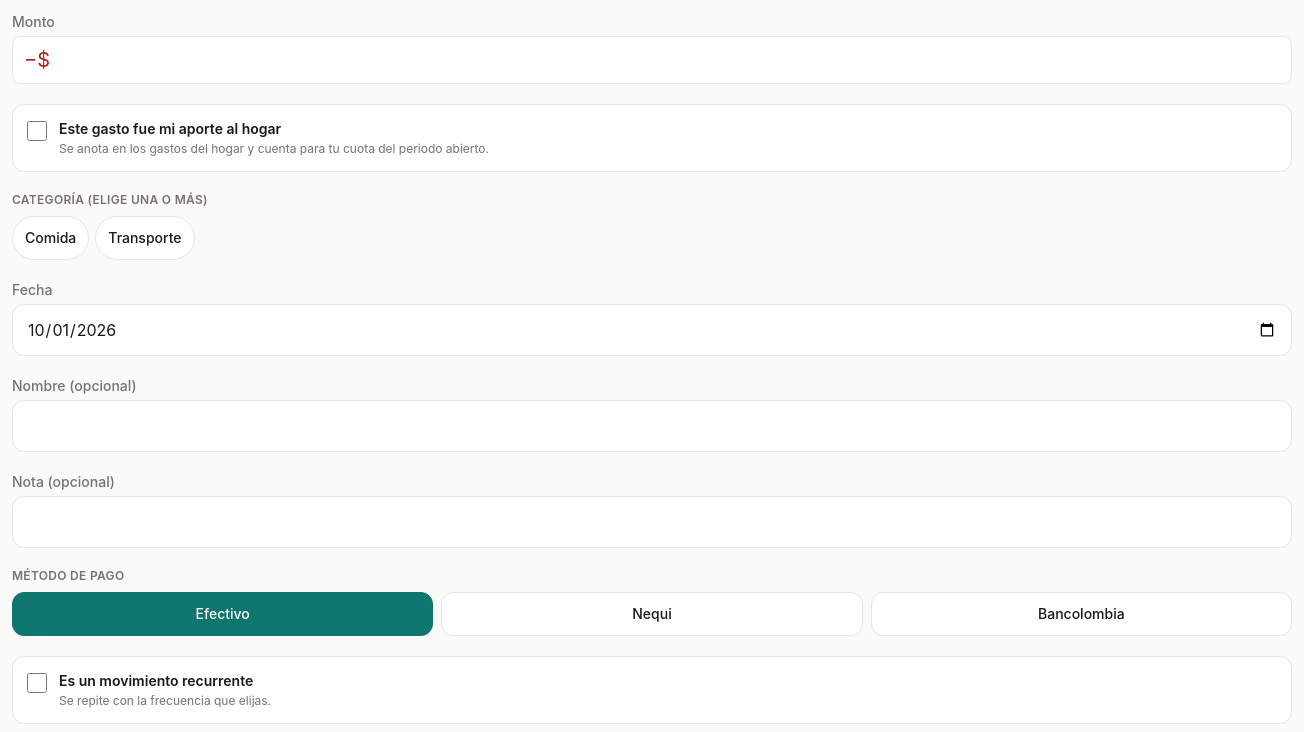
Scenario: TransactionForm › as my contribution › hides recurrence, which a contribution does not have
This screenshot has width=1304, height=732.
Check: the button "Comida" is shown, box [12,216,89,260]
Step 1. Click the checkbox labelled "mi aporte" → (37, 131), box [27,121,47,141]
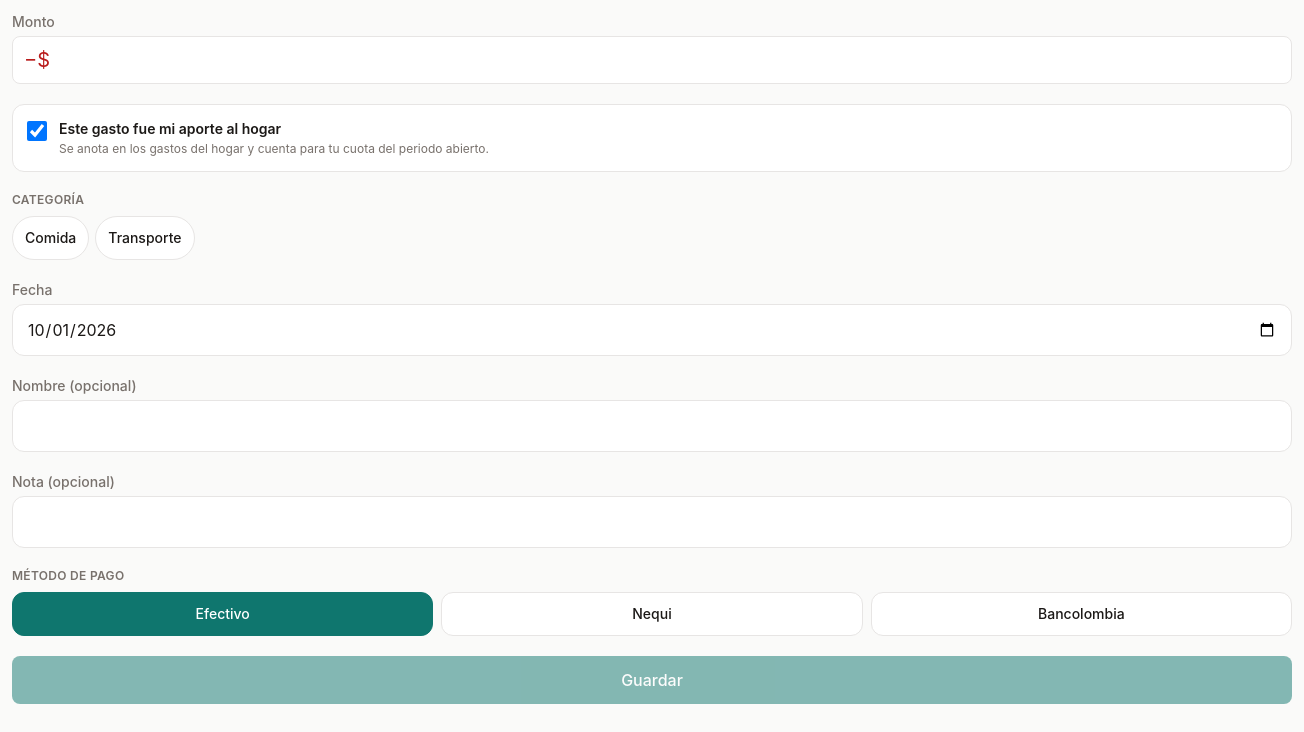
Check: the text "recurrente" is gone
